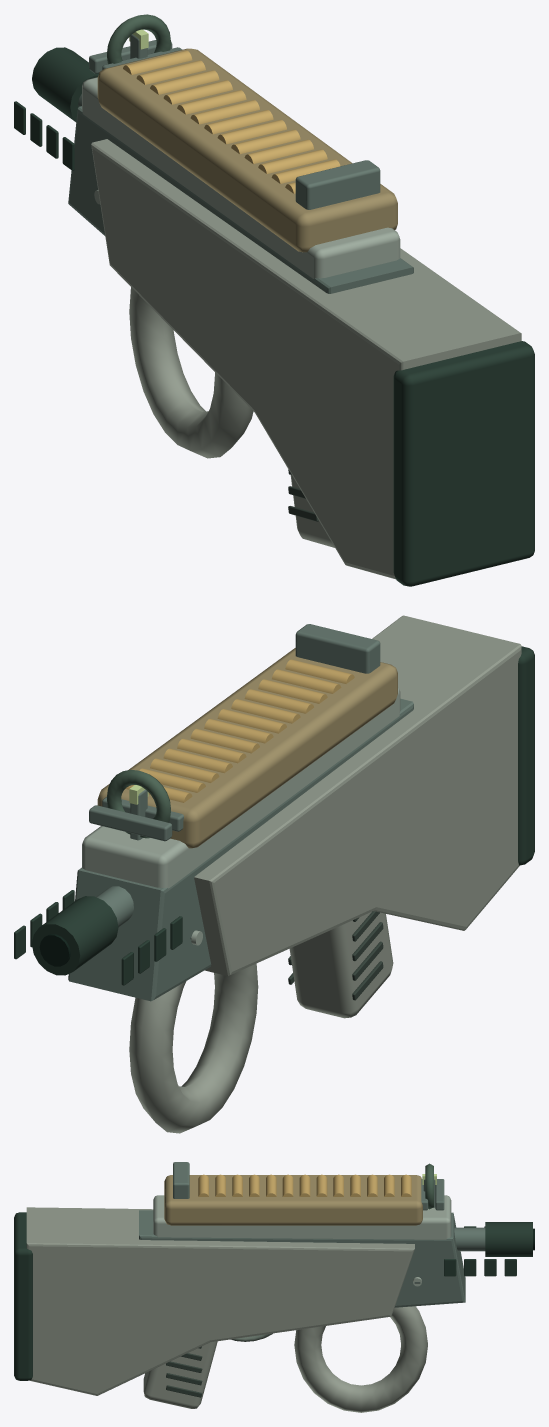
3 views of the same model, one above another, from view 1: azimuth 30°, elevation 25°; view 2: azimuth 150°, elevation 25°; view 3: azimuth 270°, elevation 25° (orthographic). The views are drawn at different scales.
Visible parts, largest first — view 1: p90, magazine; view 2: p90, magazine; view 3: p90, magazine.
Part boxes in pixels (<box>): p90: <box>14,14,534,586</box>; magazine: <box>97,48,397,252</box>; p90: <box>14,615,534,1133</box>; magazine: <box>97,648,397,848</box>; p90: <box>14,1162,534,1412</box>; magazine: <box>164,1174,422,1225</box>.
Size of the model in its own units: 0.17 by 0.4853 by 0.9265.
